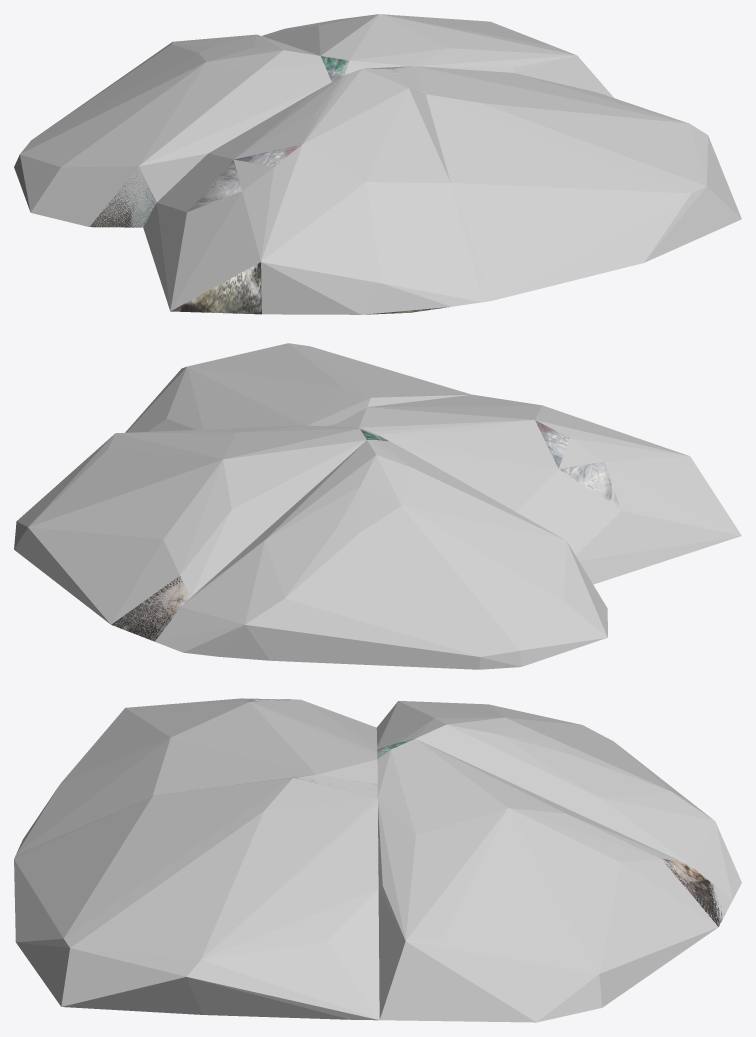
The model's file is rubble_trash_pile_a.fbx.
3 views of the same model, one above another, from view 1: azimuth 30°, elevation 25°; view 2: azimuth 150°, elevation 25°; view 3: azimuth 270°, elevation 25° (orthographic). The views are drawn at different scales.
Visible parts, largest first — view 1: rubble_trash_pile_a_ConvexHulls, rubble_trash_pile_a; view 2: rubble_trash_pile_a_ConvexHulls, rubble_trash_pile_a; view 3: rubble_trash_pile_a_ConvexHulls, rubble_trash_pile_a.
Part boxes in pixels (x1,y1,x2,y2): rubble_trash_pile_a_ConvexHulls: (14, 14, 741, 314); rubble_trash_pile_a: (90, 56, 448, 314); rubble_trash_pile_a_ConvexHulls: (14, 343, 741, 669); rubble_trash_pile_a: (111, 399, 621, 641); rubble_trash_pile_a_ConvexHulls: (14, 698, 741, 1022); rubble_trash_pile_a: (244, 698, 722, 926).
Size of the model in its own units: 154 by 156 by 30.6.
Materials: 2 (1 with a texture image).
